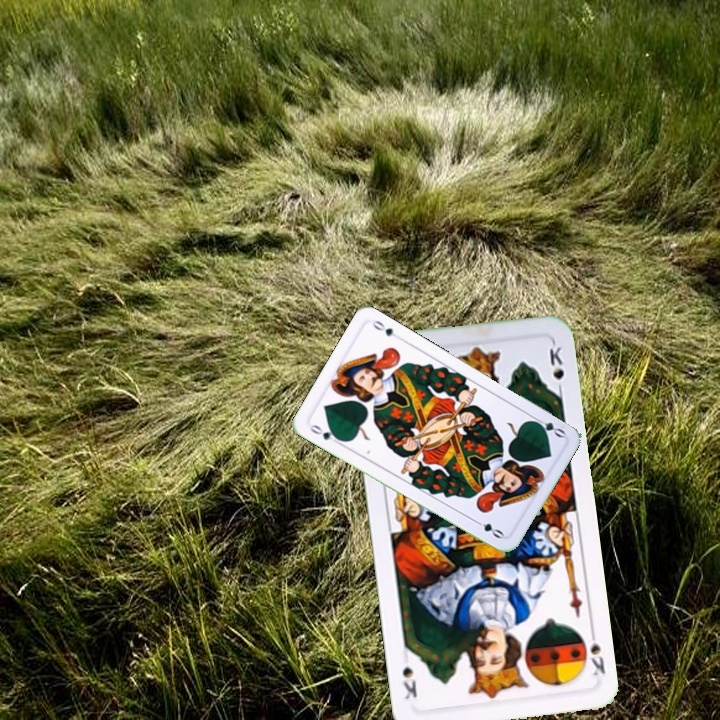GO: (528, 413, 568, 440), (306, 420, 344, 447)
SK: (586, 624, 608, 679)
